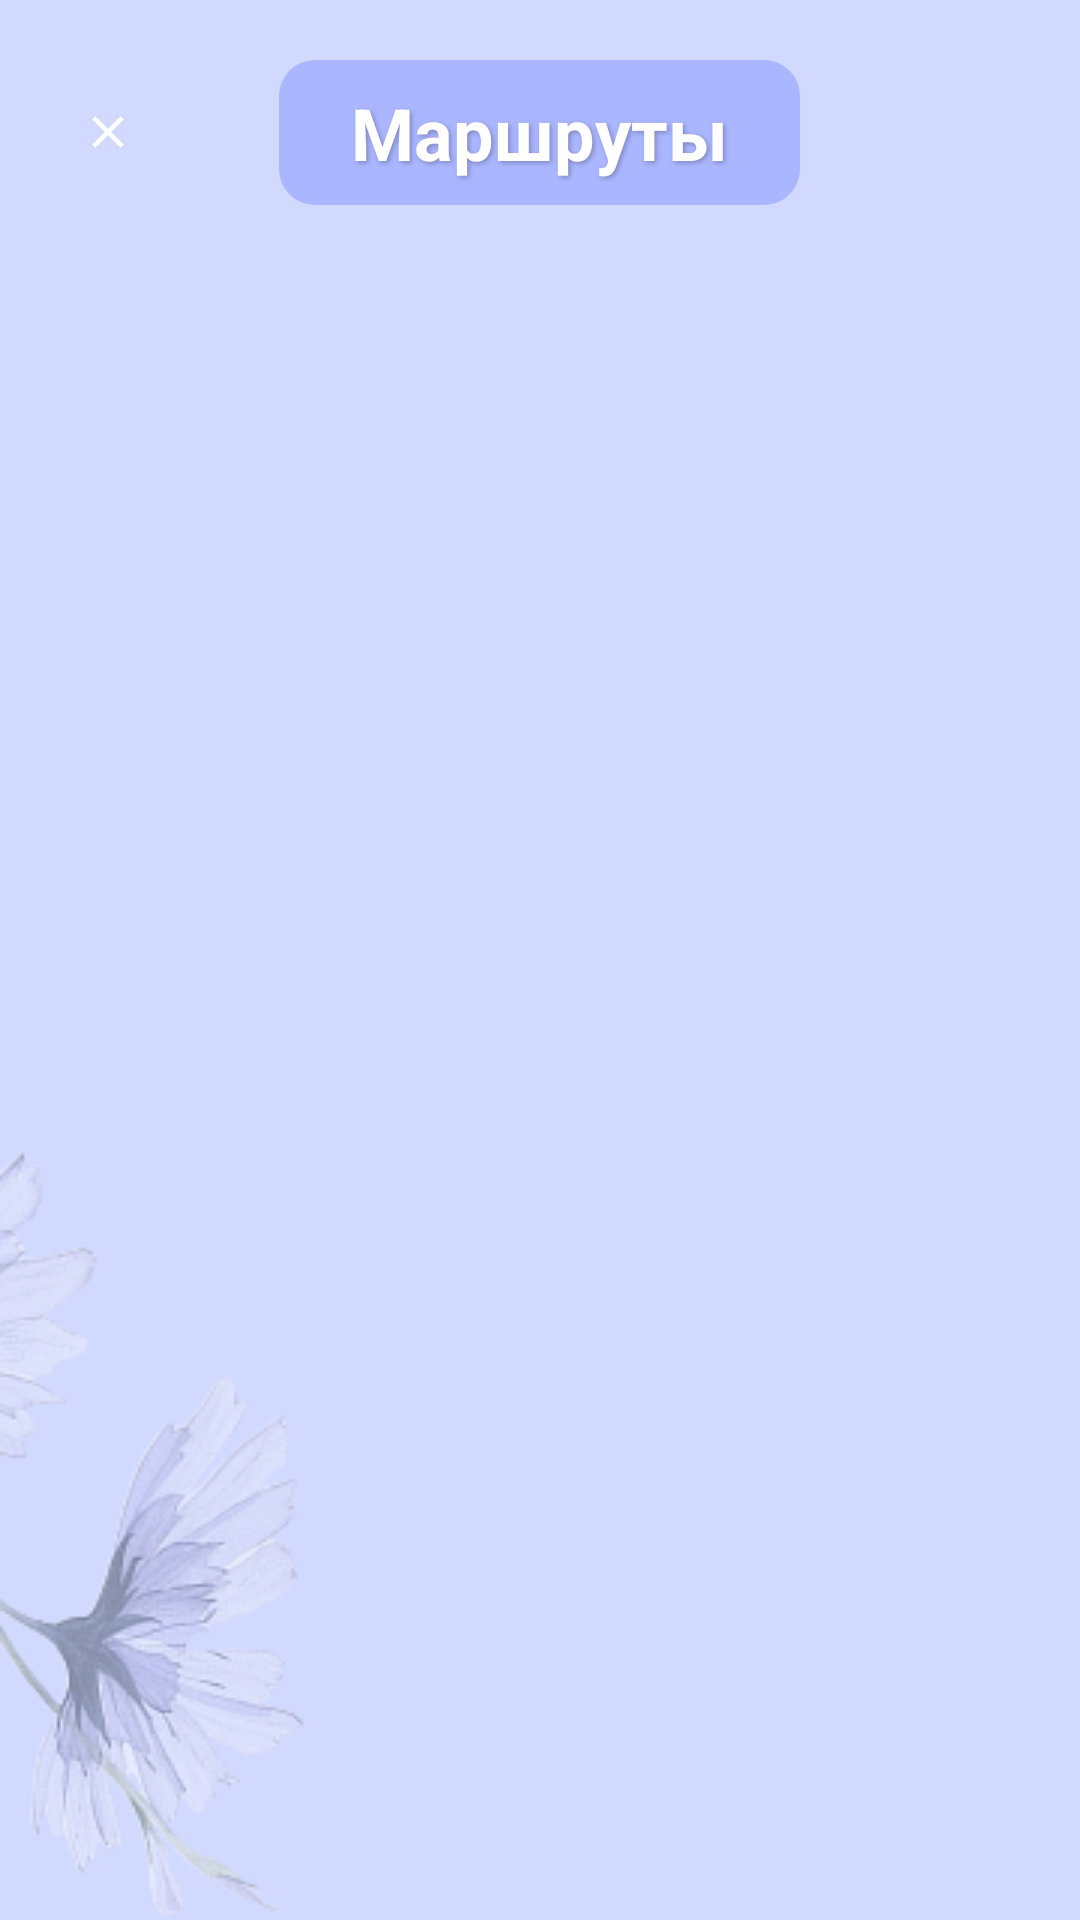

Icon click points for this 1080px×1920px phone screenshot, format [x,y]:
Назад к карте: [108,132]
